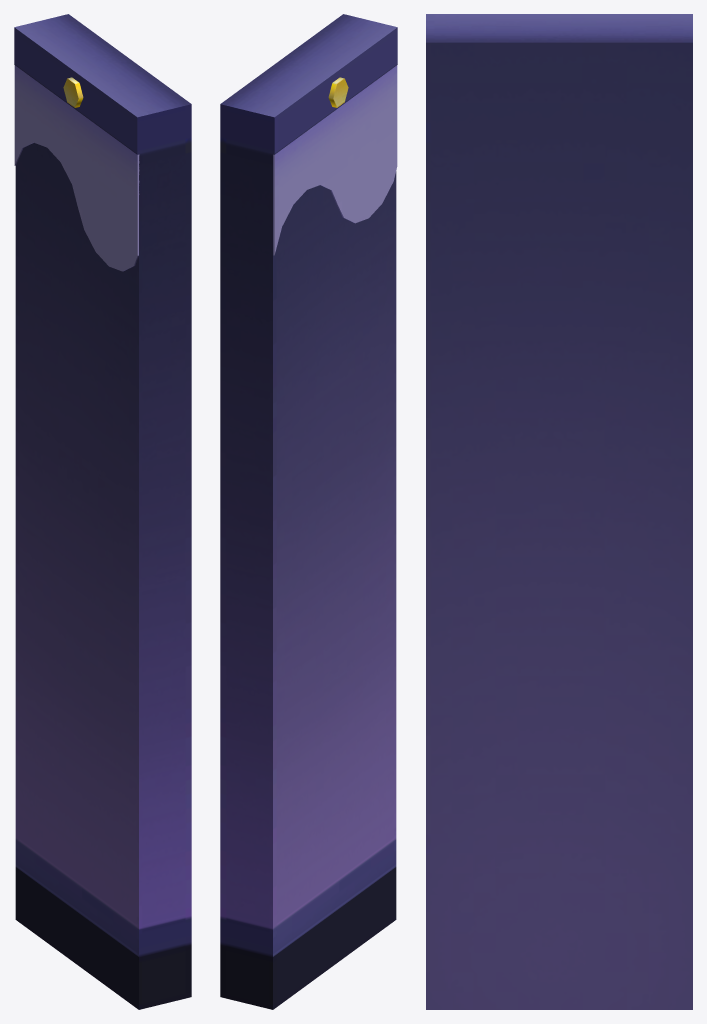
Rendered from my_halloween_01_p_wall_right.glb.
The picture shows the model from 3 angles, left to right: view 1: azimuth 30°, elevation 25°; view 2: azimuth 150°, elevation 25°; view 3: azimuth 270°, elevation 25°; orthographic projection. The views are drawn at different scales.
Visible parts, largest first — view 1: my_halloween_01_p_wall_right; view 2: my_halloween_01_p_wall_right; view 3: my_halloween_01_p_wall_right.
Part boxes in pixels (x1,y1,x2,y2): my_halloween_01_p_wall_right: [14, 14, 191, 1009]; my_halloween_01_p_wall_right: [220, 14, 397, 1009]; my_halloween_01_p_wall_right: [426, 14, 692, 1009].
Size of the model in its own units: 0.00332 by 0.048 by 0.012.
Materials: 1 (1 with a texture image).
